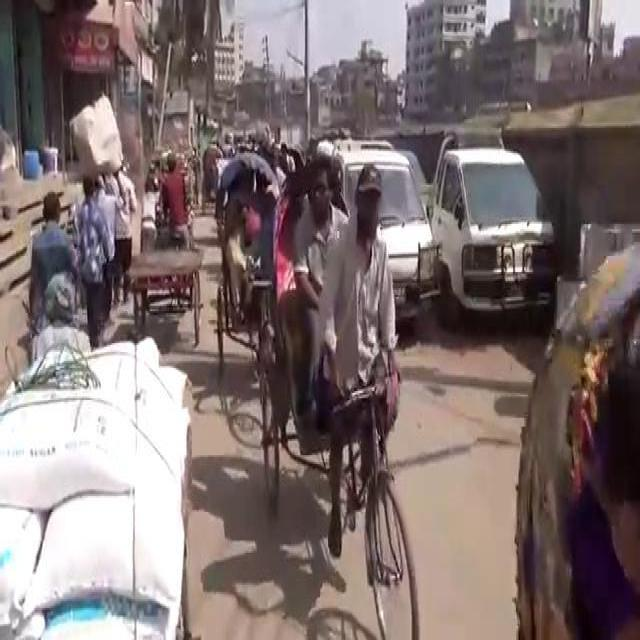vehicle: (255, 150, 425, 639), (431, 124, 558, 341), (327, 132, 440, 336), (124, 142, 206, 347), (212, 152, 281, 383), (202, 142, 225, 213)
